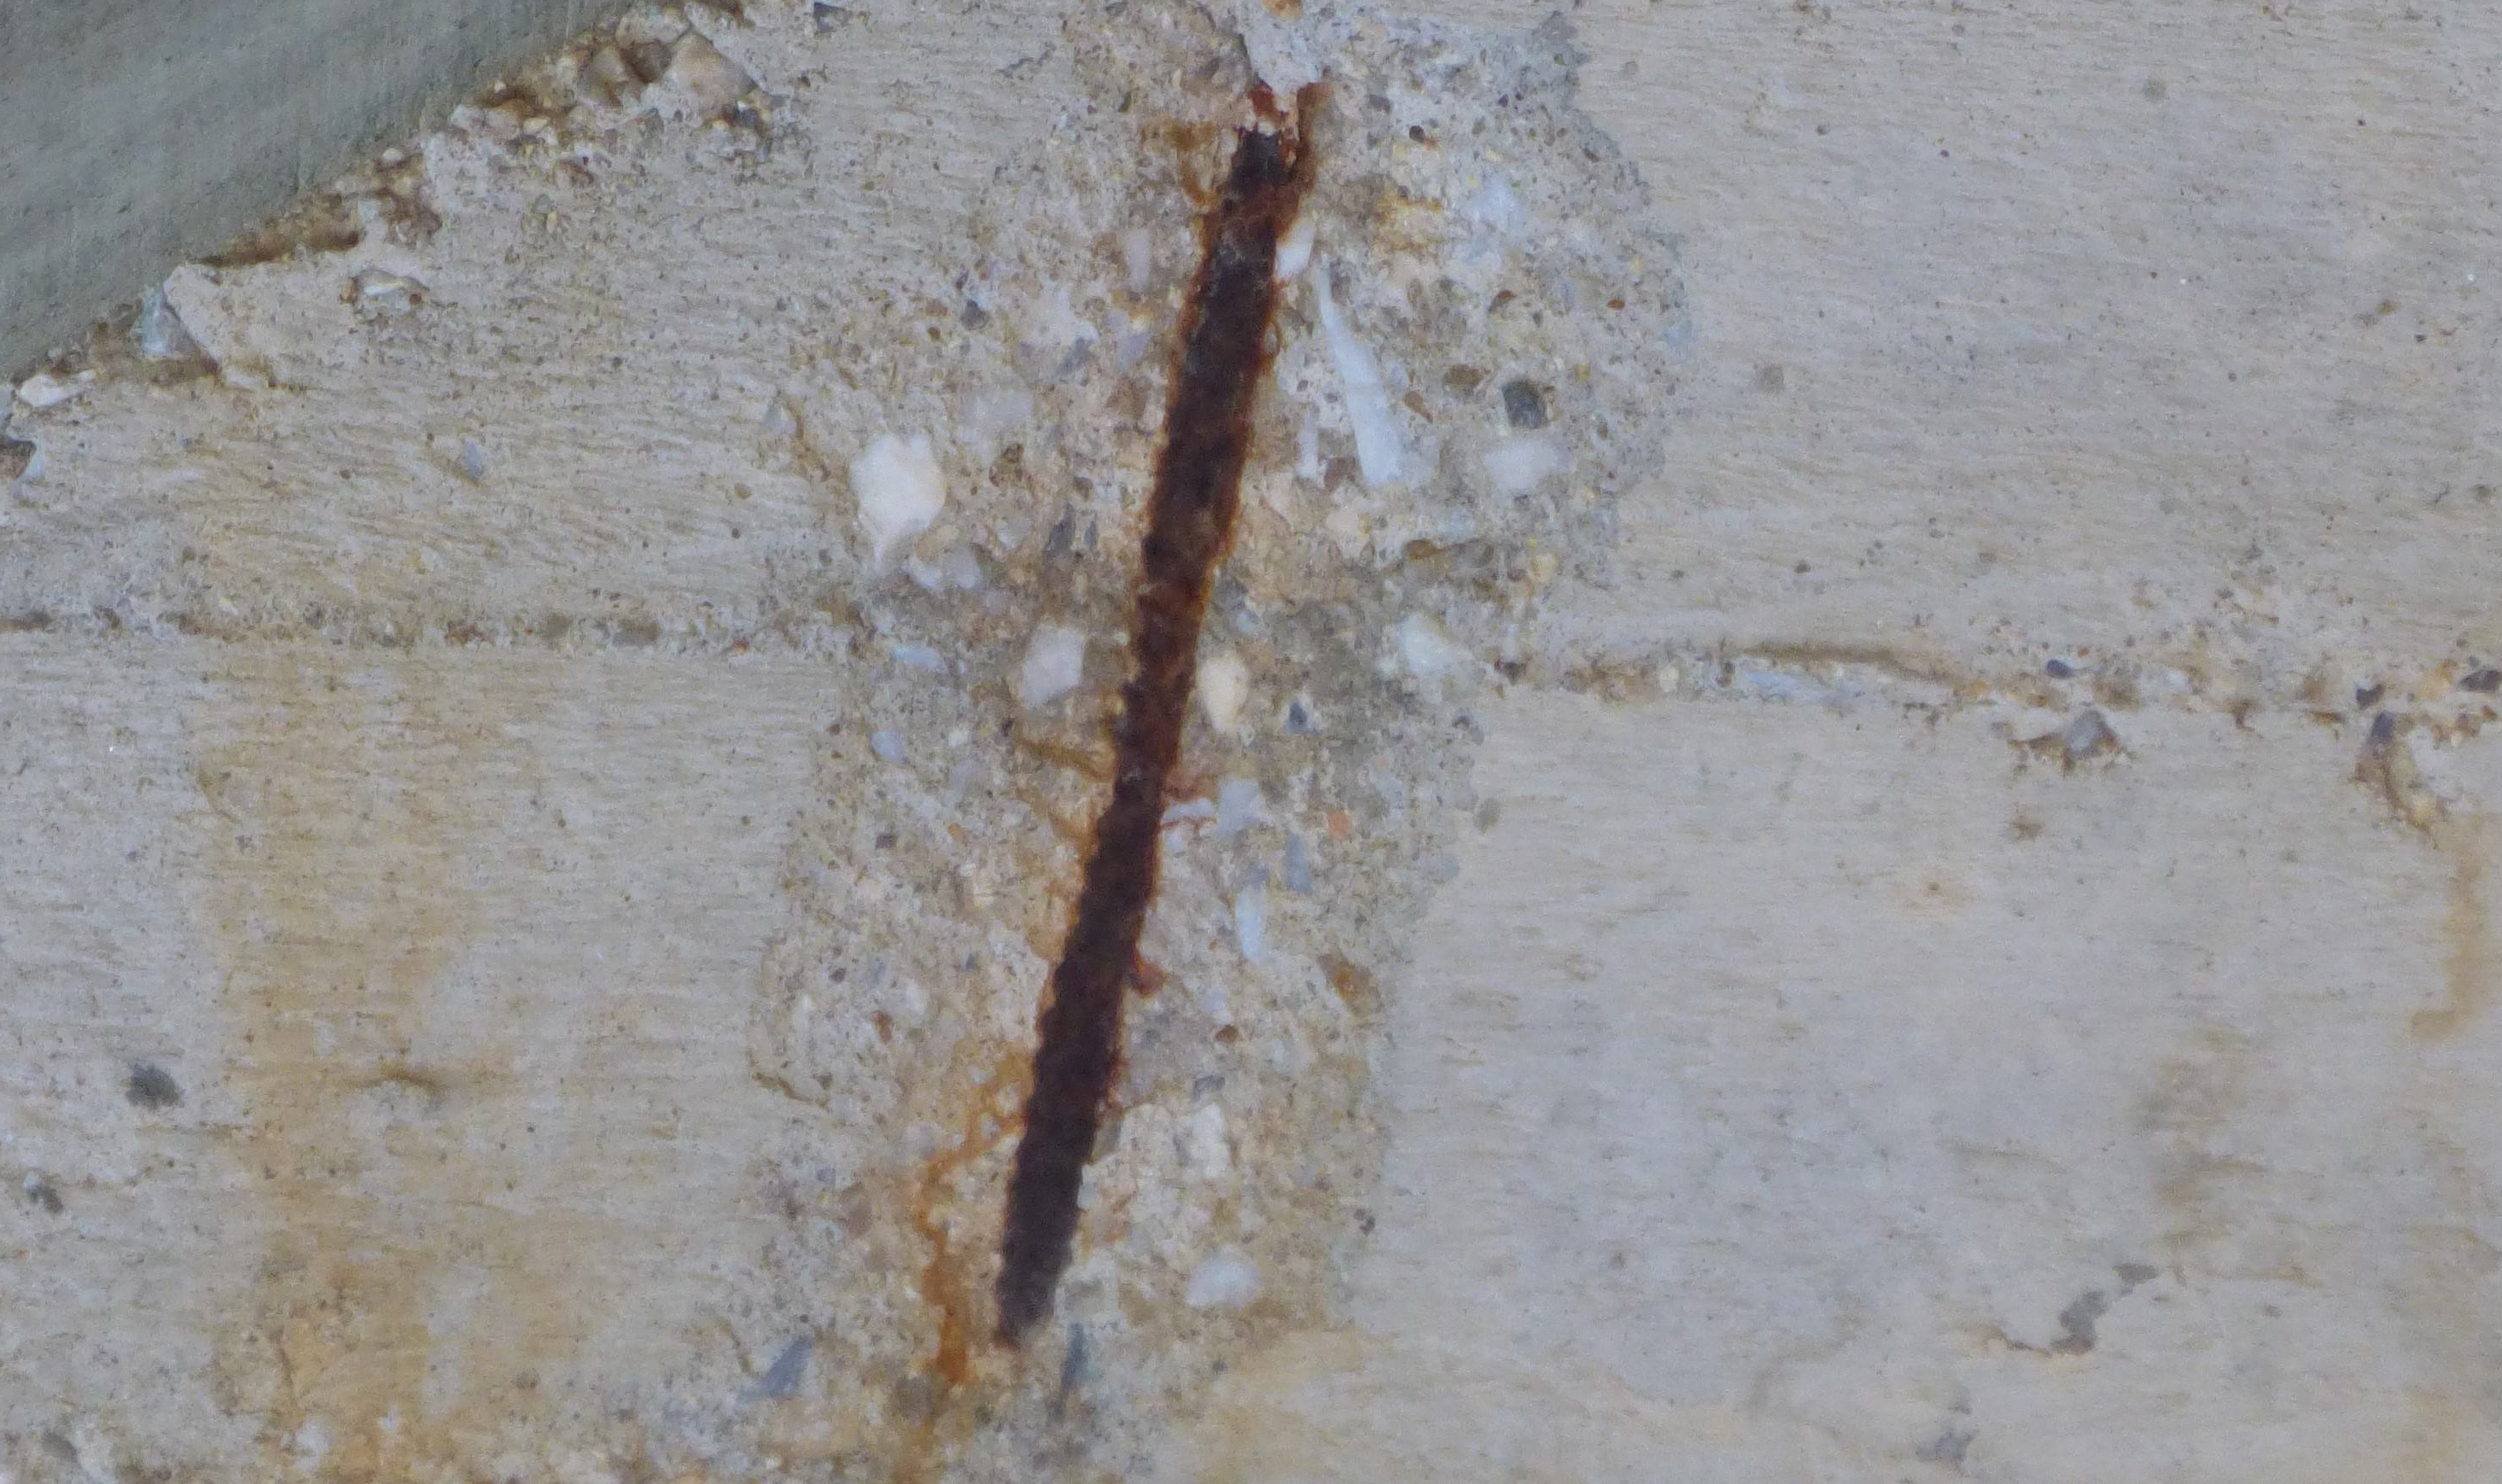Exposed reinforcement: (993, 124, 1304, 1357)
Spalling: (730, 0, 1693, 1484)
